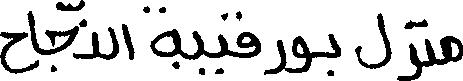X: (47, 0, 78, 76), (357, 8, 391, 73), (151, 2, 180, 73), (0, 27, 26, 78), (401, 15, 420, 80), (239, 6, 260, 62), (285, 31, 309, 77), (440, 31, 462, 69), (29, 6, 39, 75), (267, 35, 283, 78), (218, 8, 226, 78), (194, 26, 204, 79), (123, 19, 134, 64), (330, 29, 339, 80), (425, 15, 433, 71), (109, 22, 117, 64), (92, 27, 99, 63)
